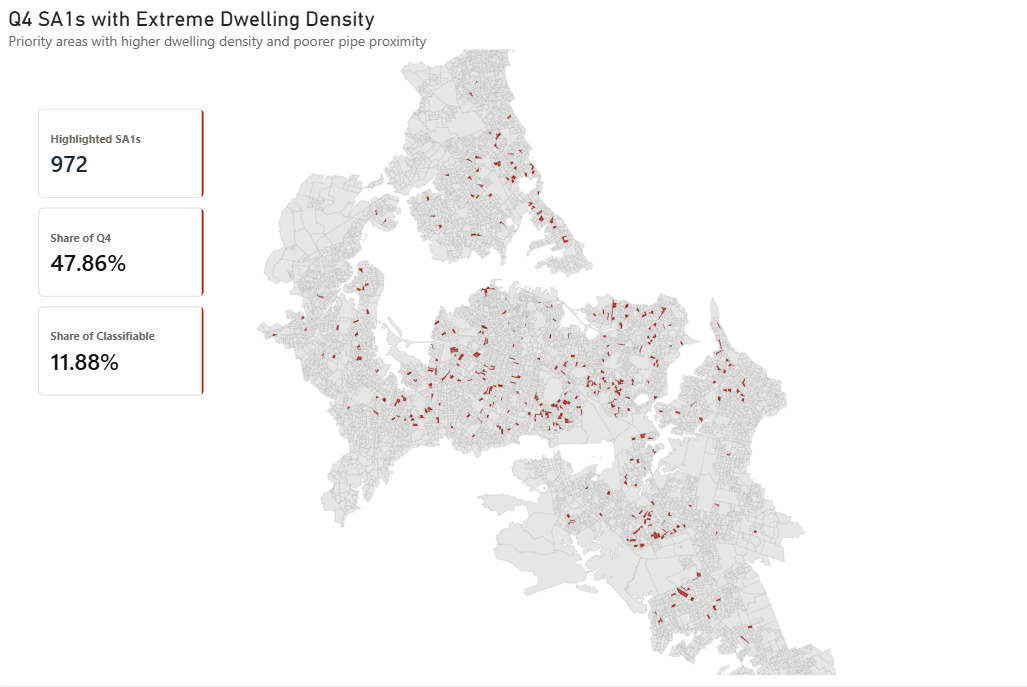

This screenshot's page, from the dashboard's own definition file:
{"tool":"powerbi","page":{"name":"Page 2","canvas":[1920,1080],"ordinal":1},"visuals":[{"type":"shapeMap","title":"Q4 SA1s with Extreme Dwelling Density","fields":{"Category":["MART_SA1_ACCESSIBILITY_QUADRANTS.SA1_ID"]},"box":[180,50,1500,1000],"z":0},{"type":"cardVisual","fields":{"Data":["MART_SA1_ACCESSIBILITY_QUADRANTS.Q4 Extreme Density SA1s"]},"box":[238.8,213.1,240,130],"z":1000},{"type":"cardVisual","fields":{"Data":["MART_SA1_ACCESSIBILITY_QUADRANTS.Q4 Extreme Density Share"]},"box":[238.9,356.5,240,130],"z":2000},{"type":"cardVisual","fields":{"Data":["MART_SA1_ACCESSIBILITY_QUADRANTS.Q4 Extreme Density Share of Classifiable"]},"box":[238.9,499.5,240,130],"z":3000}]}

Visuals, with their boxes on the page's 1920x1080 design canvas (x1, y1, x2, y2). These are canvas units, not pixel positions in the 1027x687 screenshot, which may show the page scaled, cropped or inside an application window:
"Q4 SA1s with Extreme Dwelling Density" shapeMap: crop(180, 50, 1680, 1050)
cardVisual - MART_SA1_ACCESSIBILITY_QUADRANTS.Q4 Extreme Density SA1s: crop(239, 213, 479, 343)
cardVisual - MART_SA1_ACCESSIBILITY_QUADRANTS.Q4 Extreme Density Share: crop(239, 356, 479, 486)
cardVisual - MART_SA1_ACCESSIBILITY_QUADRANTS.Q4 Extreme Density Share of Classifiable: crop(239, 500, 479, 630)
